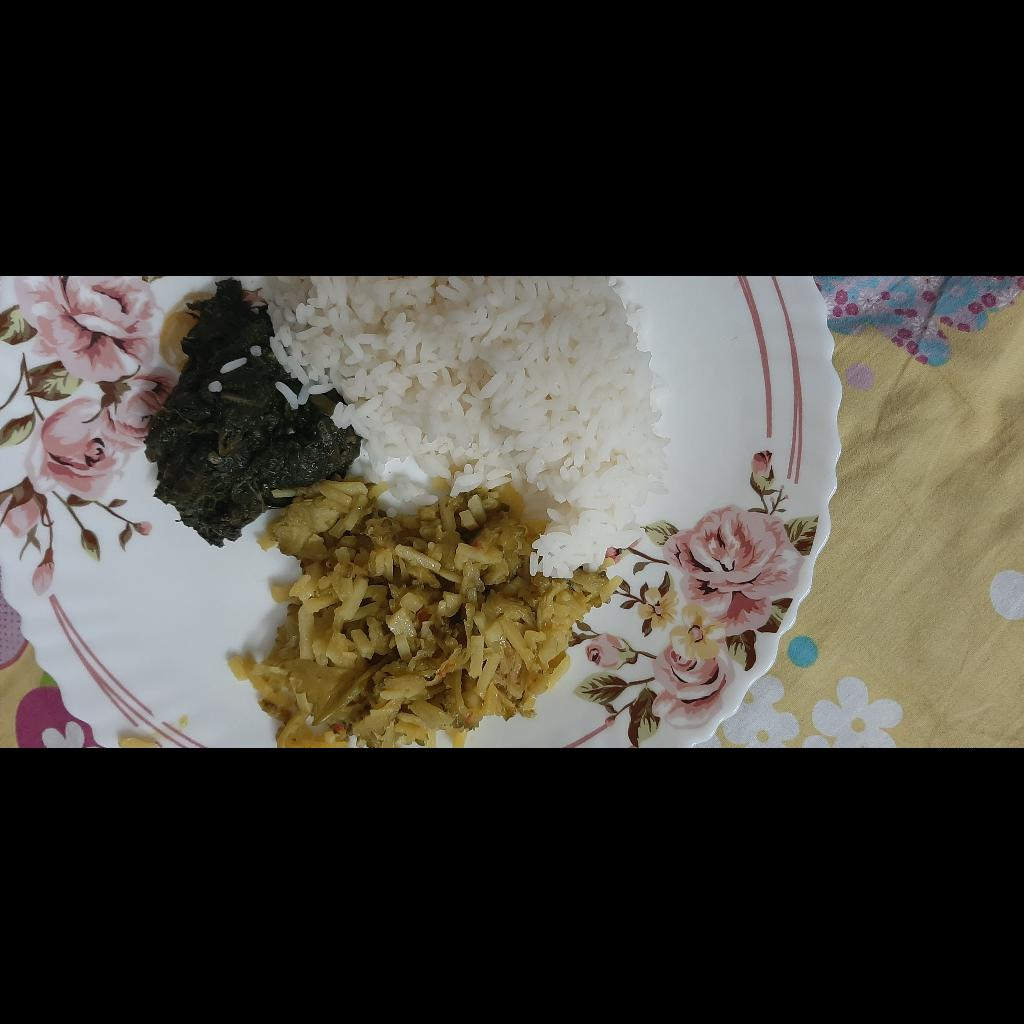rice: (175, 532, 472, 949)
shak: (202, 421, 472, 633)
vegetable: (0, 505, 269, 894)
